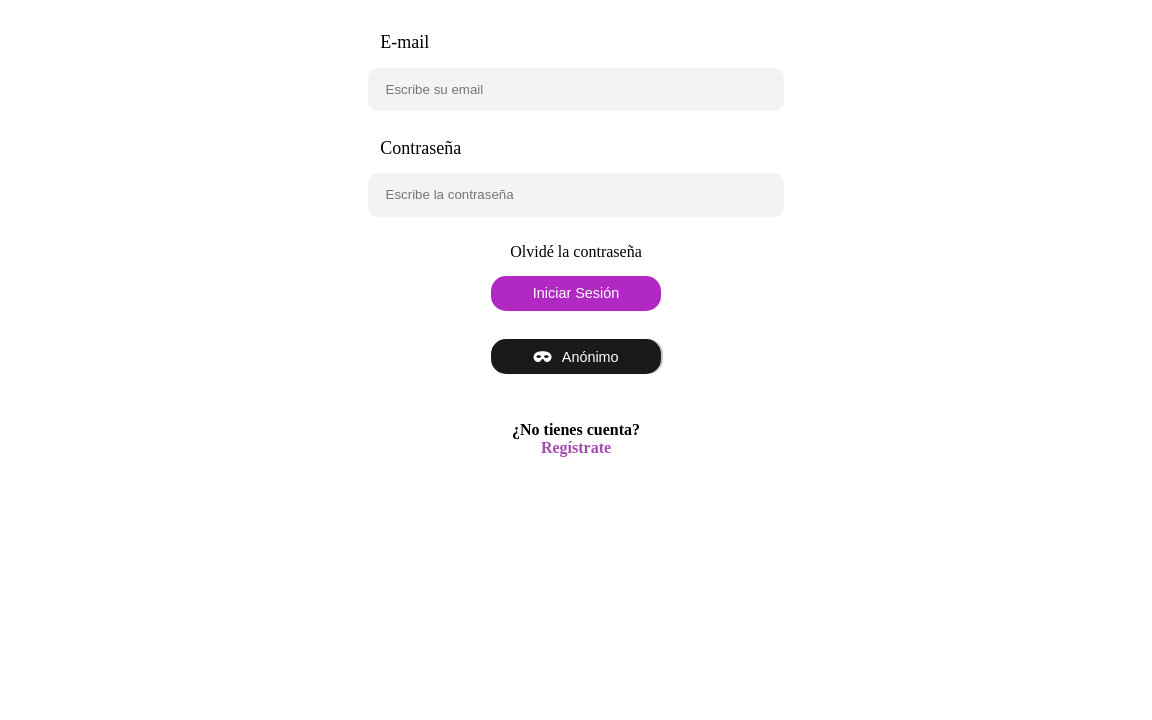
Test case: <Login.vue/> › al hacer click en... › "Iniciar sesión" debe mostrar el error de swal si los campos de form están vacios
Click the button "Iniciar Sesión".
click(576, 293)  # box [491, 276, 661, 311]
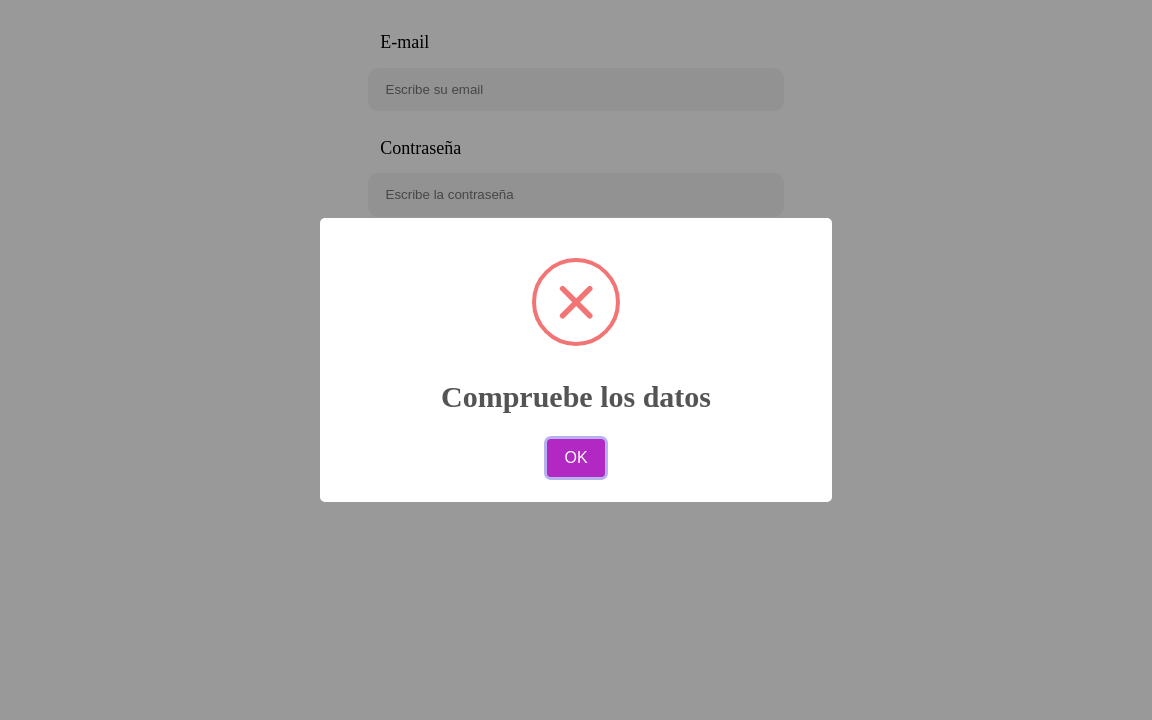
Expected: the heading "Compruebe los datos" is shown, [441, 380, 711, 413]
